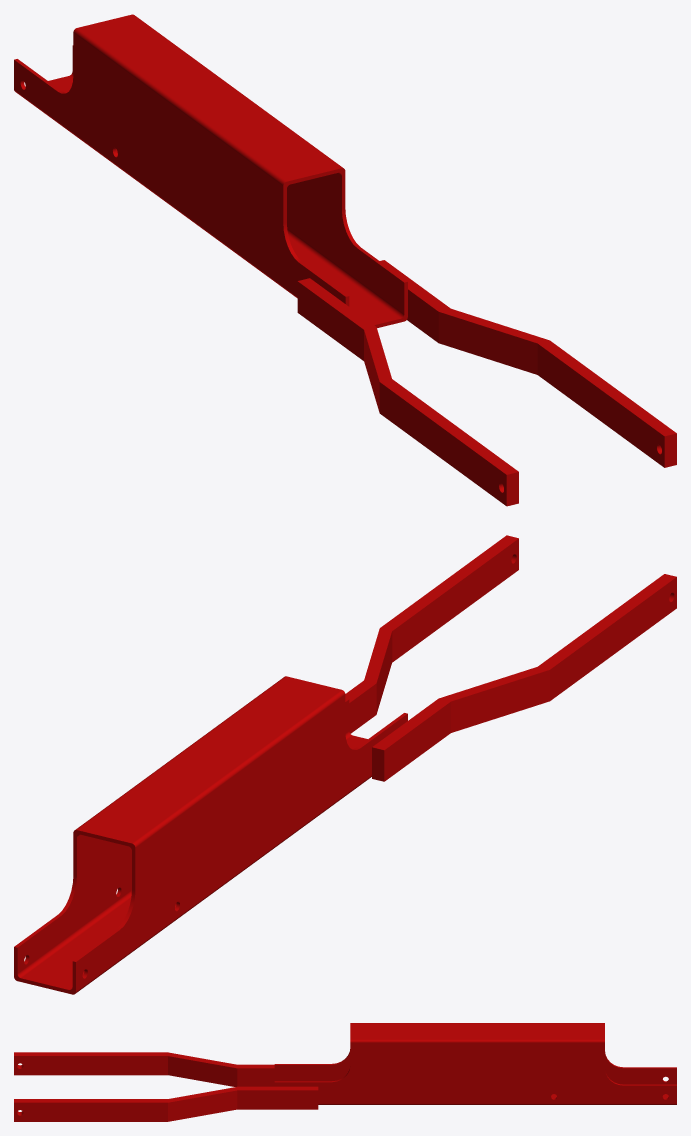
File: outer_pitch_bottom.dae
3 renders of one model, top to bottom at view 1: azimuth 30°, elevation 25°; view 2: azimuth 150°, elevation 25°; view 3: azimuth 270°, elevation 25°, orthographic. The views are drawn at different scales.
Visible parts, largest first — view 1: Actor0; view 2: Actor0; view 3: Actor0.
Part boxes in pixels (bbox=[...]): Actor0: bbox=[14, 14, 676, 506]; Actor0: bbox=[14, 535, 676, 994]; Actor0: bbox=[14, 1023, 676, 1121].
Size of the model in its own units: 0.096 by 0.058 by 0.534.
